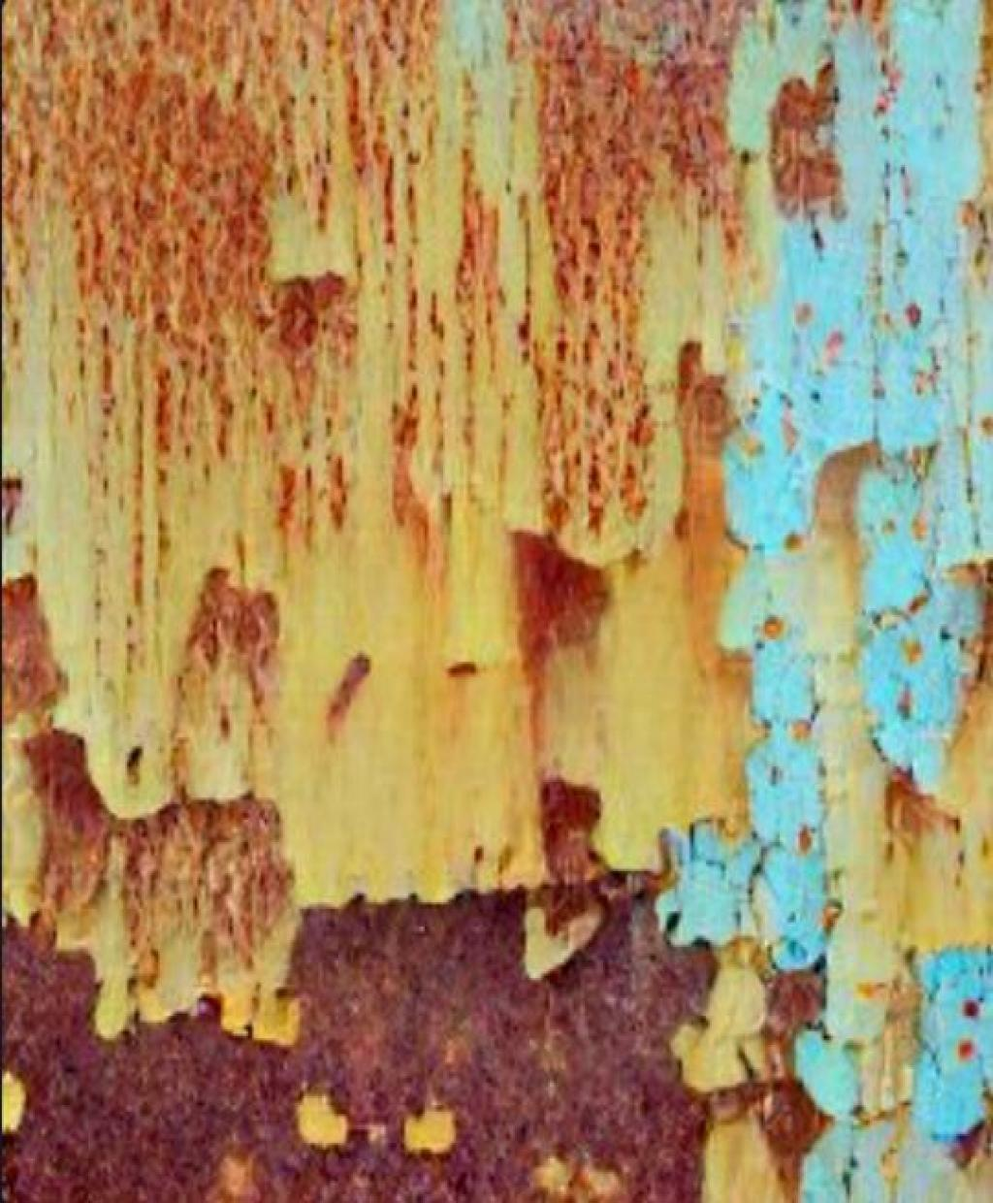corrosion: (4, 5, 992, 1203)
